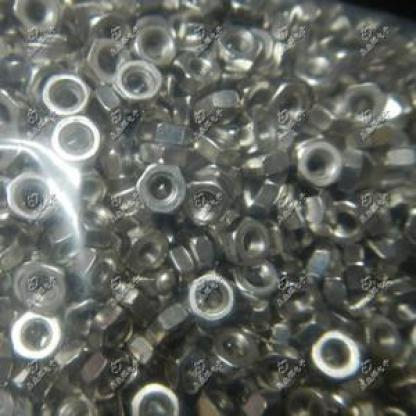FOD: (185, 271, 241, 327), (10, 304, 68, 357), (293, 135, 346, 192), (135, 162, 189, 214), (114, 56, 165, 106)
